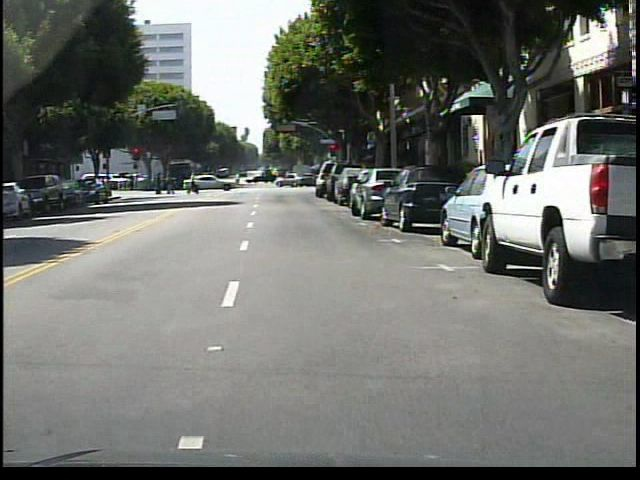person: (189, 167, 209, 197)
